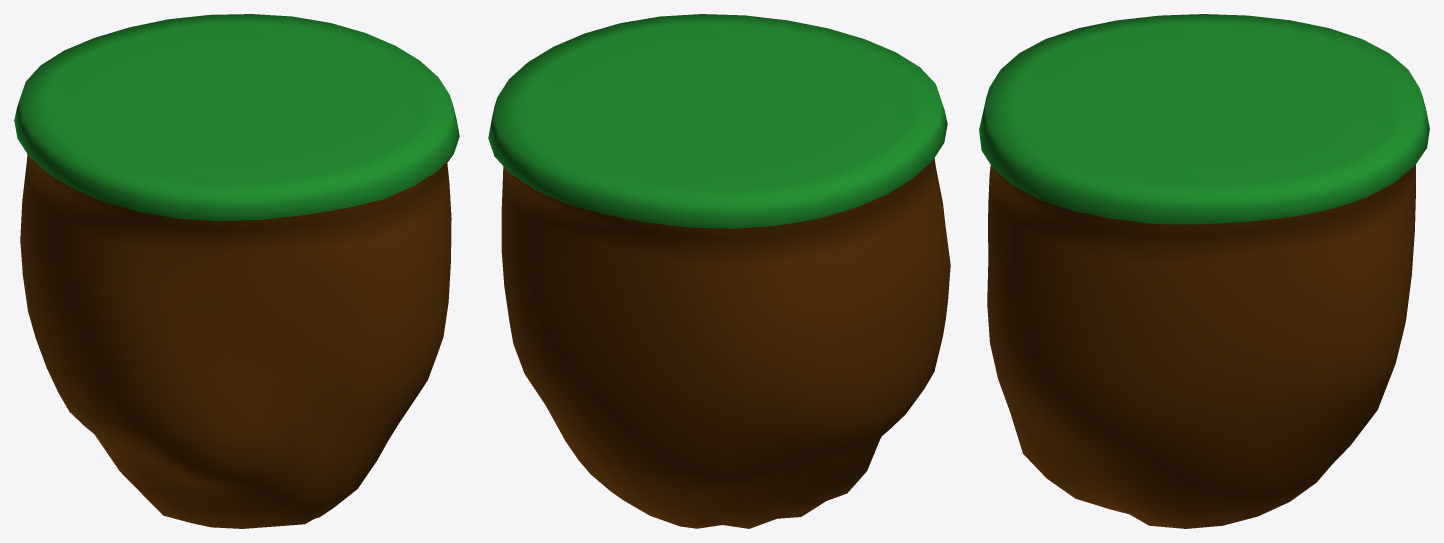
The model's file is Island_3.fbx.
3 views of the same model, side by side, from view 1: azimuth 30°, elevation 25°; view 2: azimuth 150°, elevation 25°; view 3: azimuth 270°, elevation 25° (orthographic). The views are drawn at different scales.
Parts seen in each view (by area): view 1: Cube; view 2: Cube; view 3: Cube.
Part boxes in pixels (box(x1,y1,x2,y2)): Cube: box(14, 14, 459, 528); Cube: box(488, 14, 950, 528); Cube: box(979, 14, 1429, 528).
Bounding box in the file's own units: 197 × 199 × 198.
